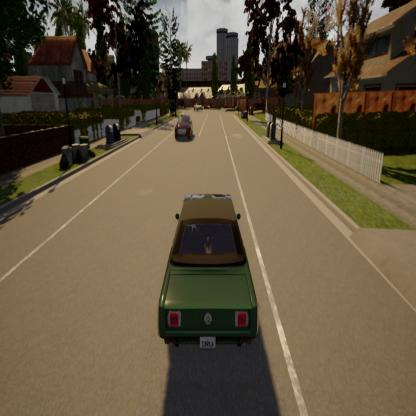Cars: (155, 182, 266, 374), (169, 110, 199, 150)
